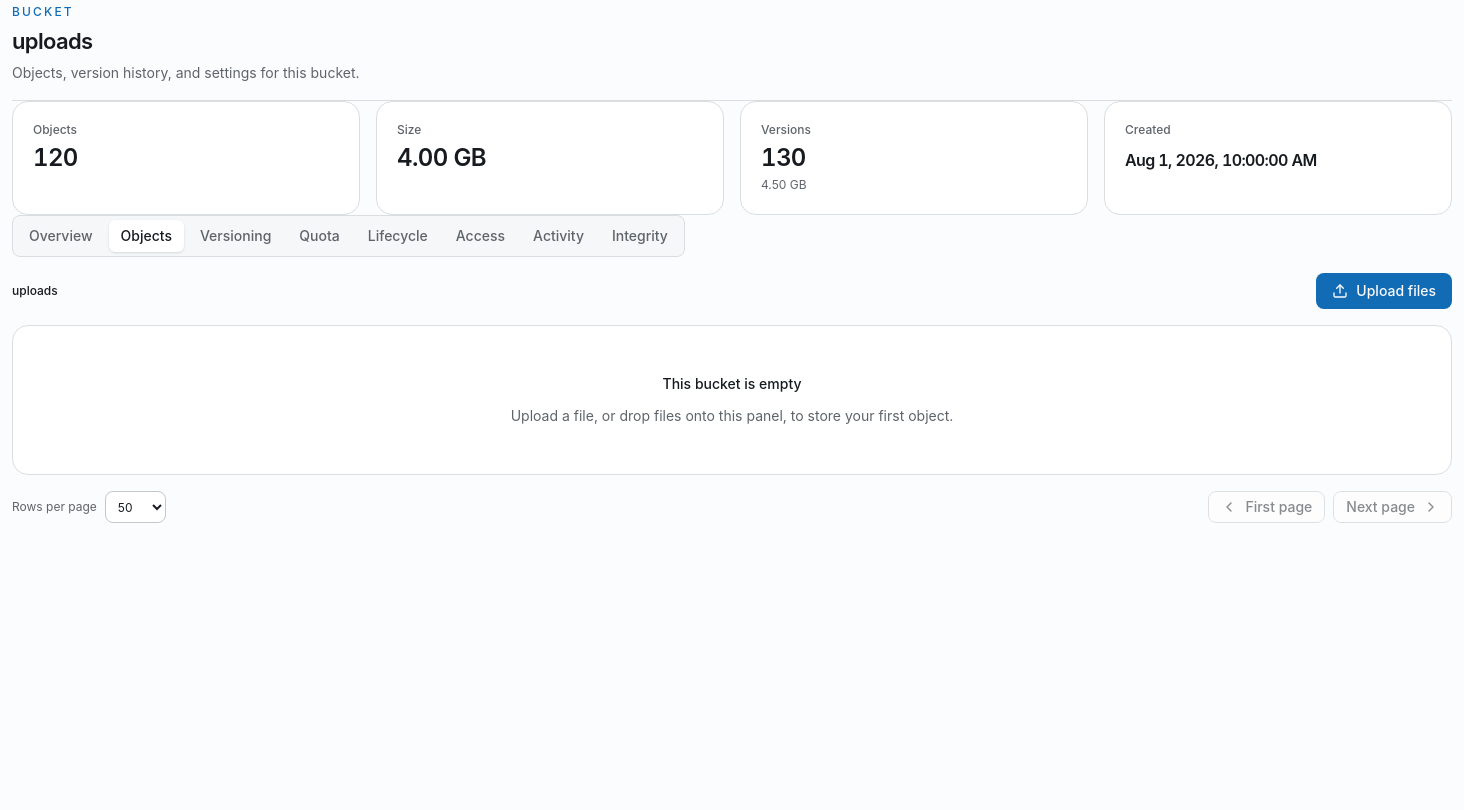
Test: BucketDetail tabs › explains when no policy reaches the bucket
Step 1. Click the tab "Access" → [480, 236], box [444,220,517,252]
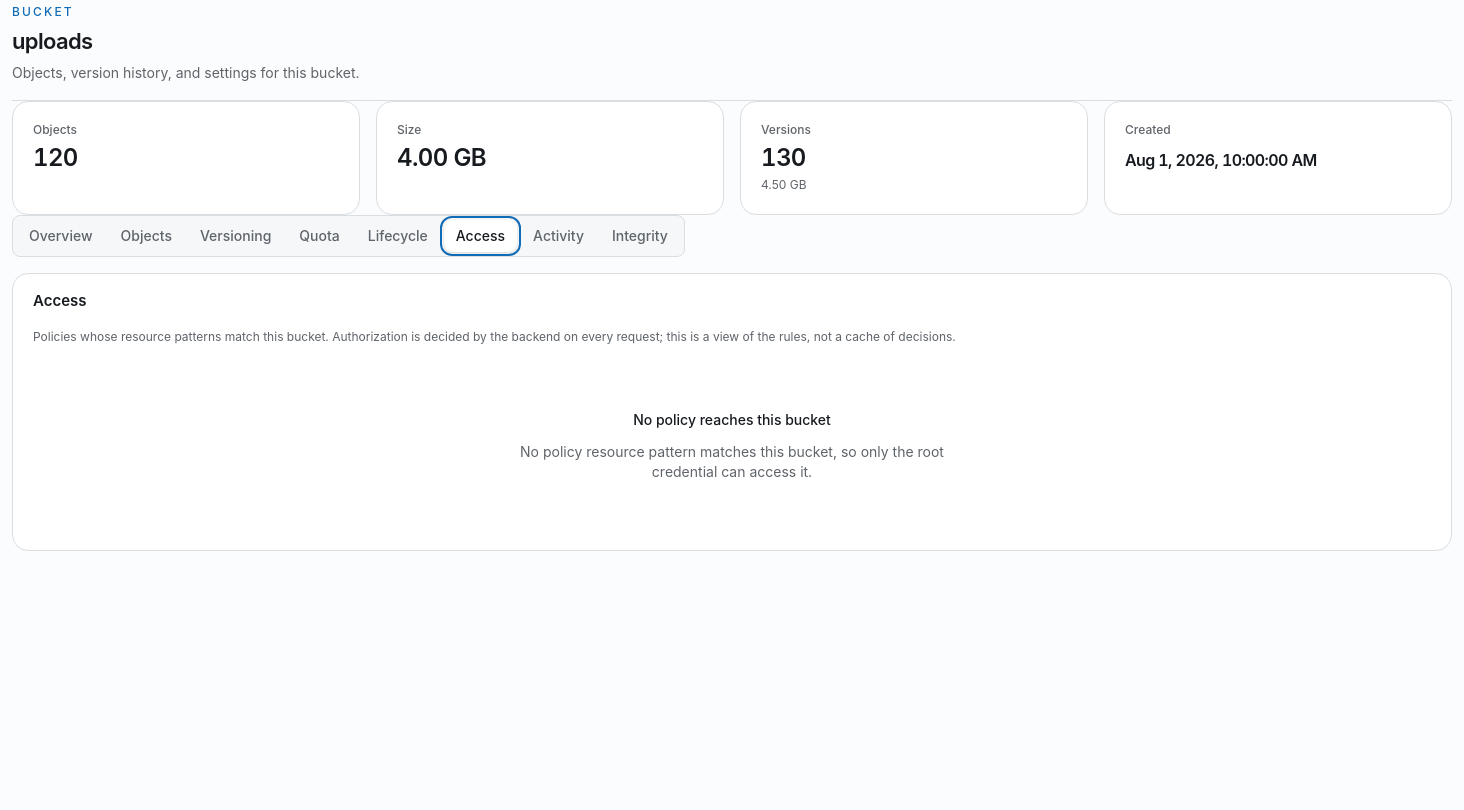
Expected: the text "No policy reaches this bucket" is shown, [633,410,831,430]
